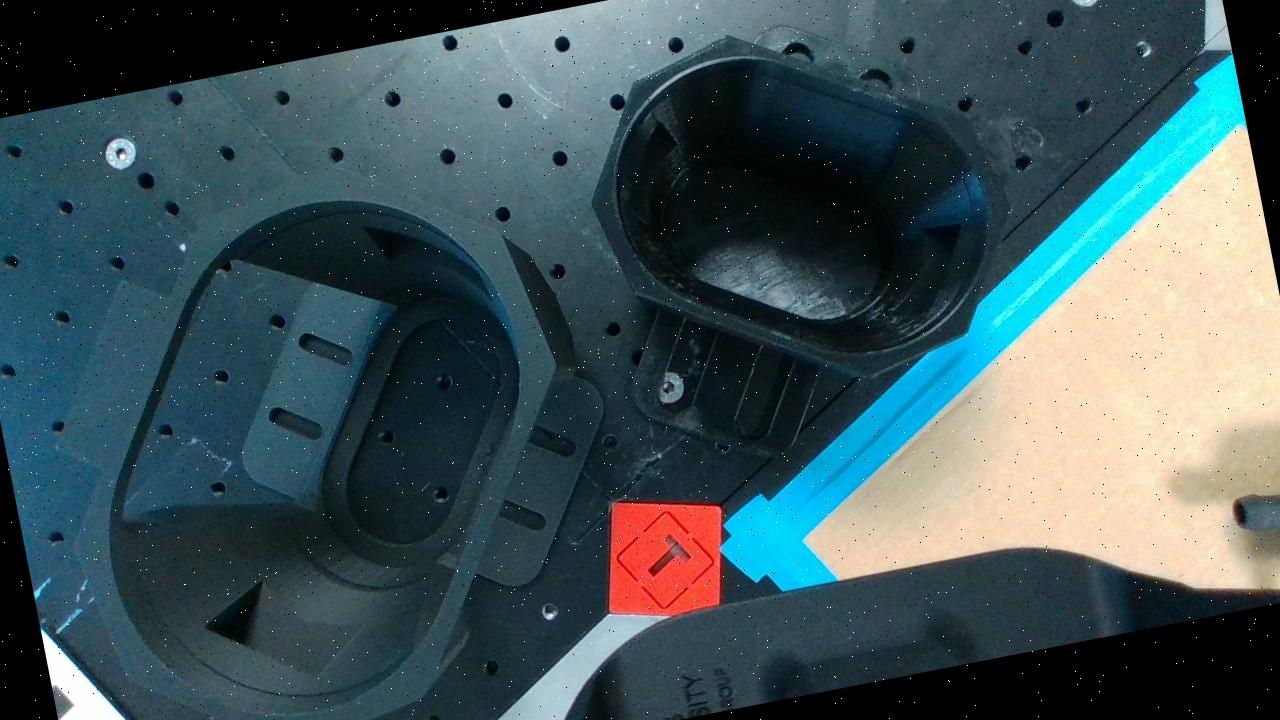big_interface: (14, 129, 620, 720)
